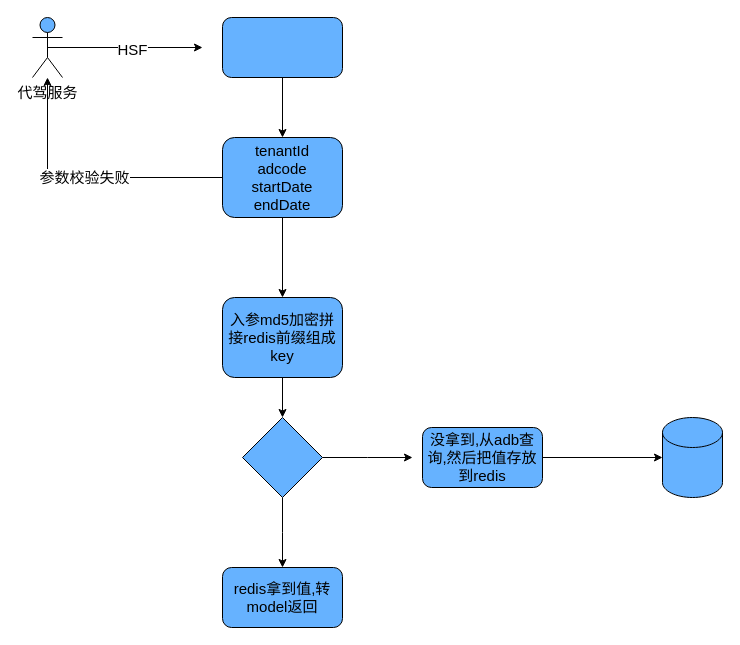
The diagram is 740 pixels wide and 645 high, and some of its shapes have lost their labels. The shapes that lost their labels are listed below. From the top down, each one's centre as x and y in pixels, then its label:
[282,47]: queryHisCellularList
[282,457]: redis查询
[692,457]: T-1历史数据
